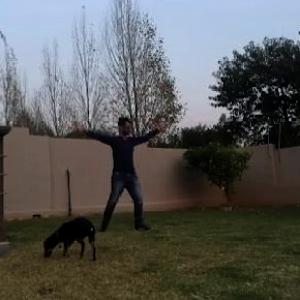takeoff: (48, 111, 164, 241)
